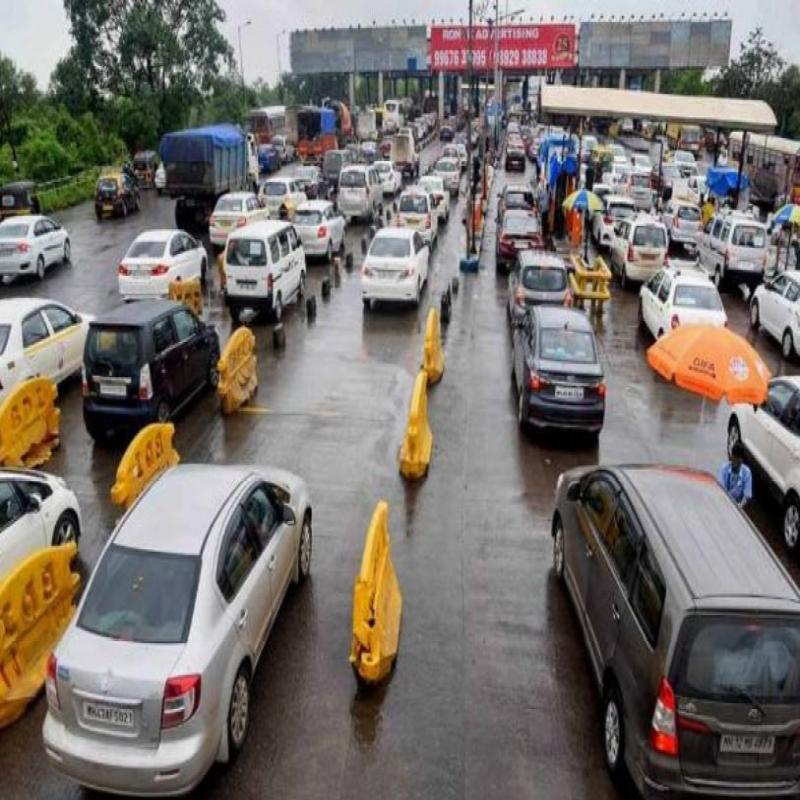car: (50, 435, 304, 800), (544, 463, 800, 791), (87, 272, 228, 434), (501, 303, 614, 453), (636, 255, 731, 377), (219, 222, 312, 315), (126, 215, 201, 330), (3, 203, 83, 300), (363, 206, 429, 315), (508, 244, 571, 343)
